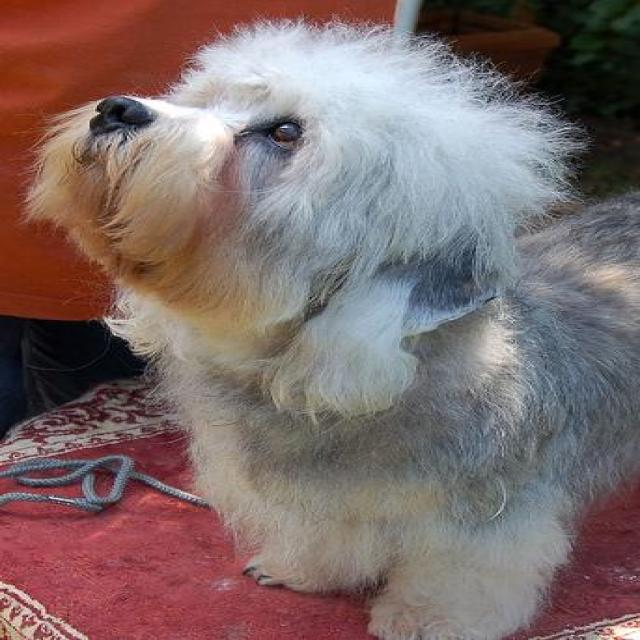dandie_dinmont: (19, 14, 636, 638)
